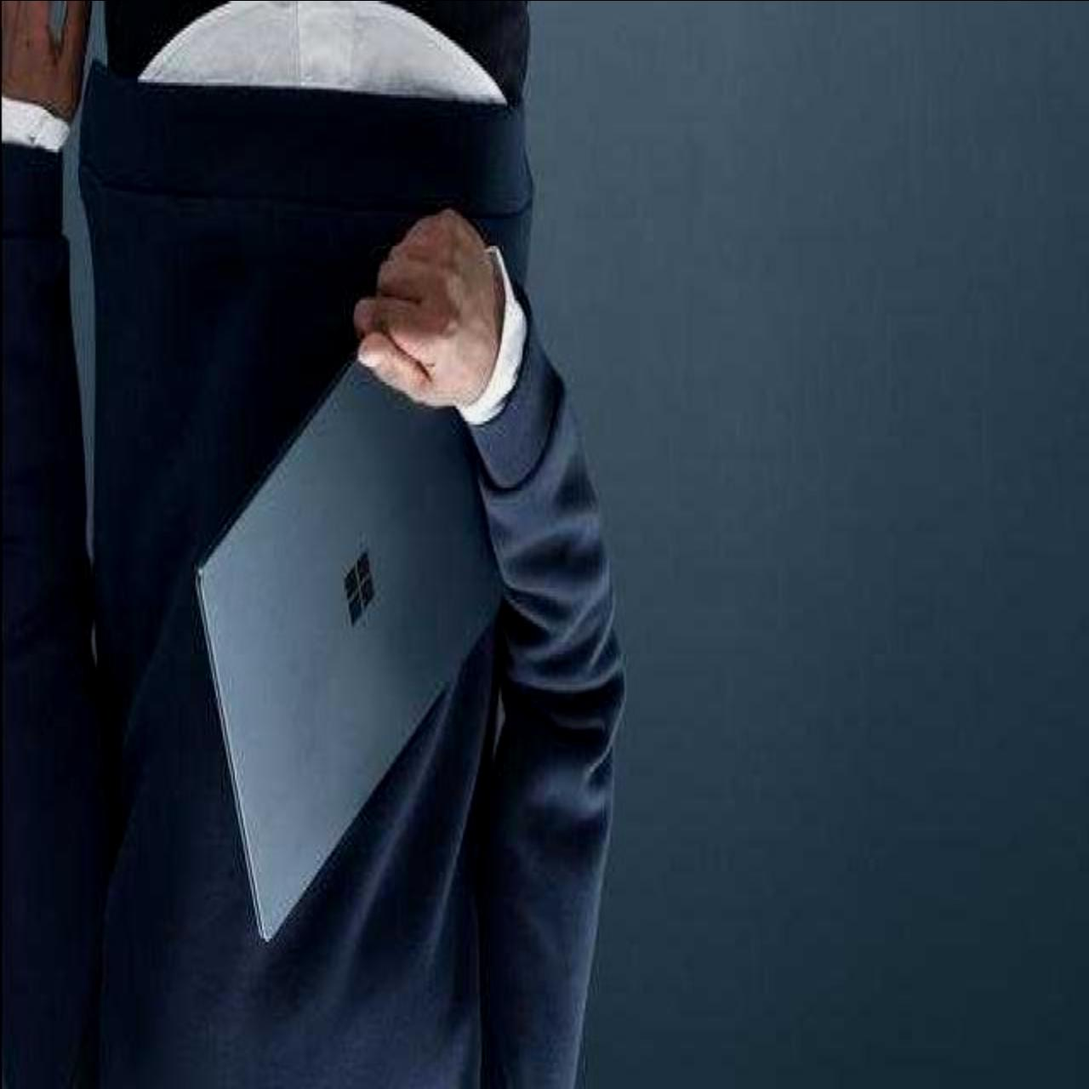laptop: (192, 383, 502, 849)
